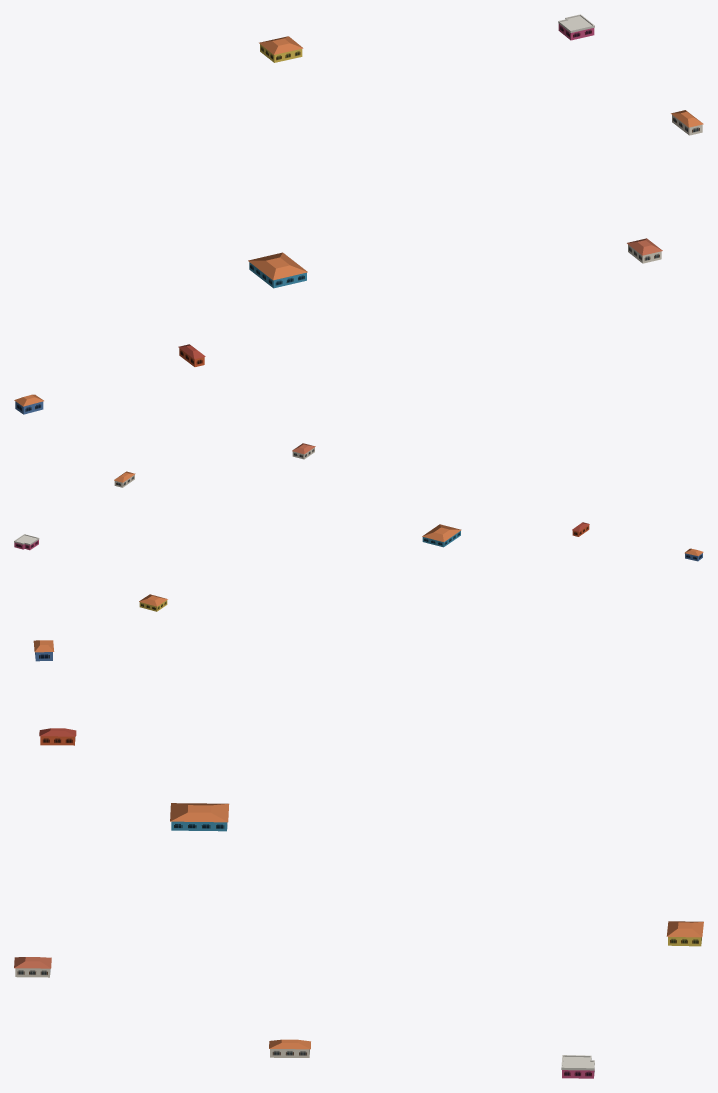
The model's file is msb_noord_m20_m5.glb.
3 views of the same model, one above another, from view 1: azimuth 30°, elevation 25°; view 2: azimuth 150°, elevation 25°; view 3: azimuth 270°, elevation 25° (orthographic). The views are drawn at different scales.
Visible parts, largest first — view 1: msb_noord_m20_m5_lod0; view 2: msb_noord_m20_m5_lod0; view 3: msb_noord_m20_m5_lod0.
Part boxes in pixels (x1,y1,x2,y2): msb_noord_m20_m5_lod0: (14,14,703,414); msb_noord_m20_m5_lod0: (14,443,703,611); msb_noord_m20_m5_lod0: (14,640,703,1078).
Size of what is drawn, in the model's own units: 346 by 9.55 by 232.
3 materials, 1 textured.
